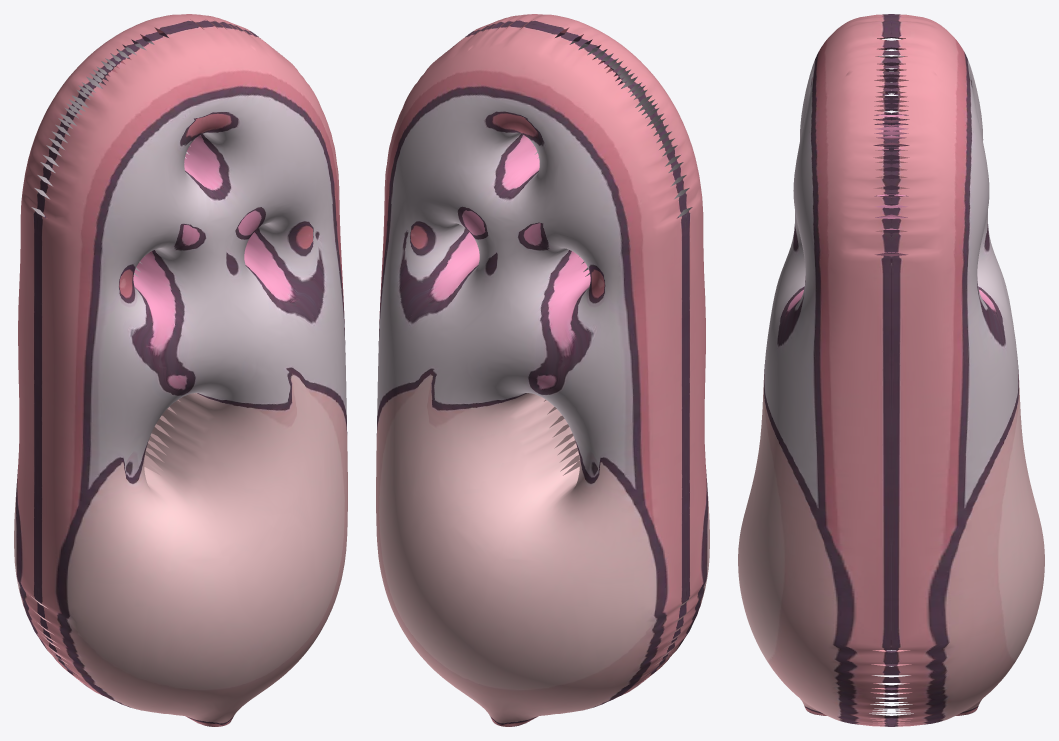
Rendered from chamber_pod.glb.
The picture shows the model from 3 angles, left to right: view 1: azimuth 30°, elevation 25°; view 2: azimuth 150°, elevation 25°; view 3: azimuth 270°, elevation 25°; orthographic projection.
Parts seen in each view (by area): view 1: chamber_pod; view 2: chamber_pod; view 3: chamber_pod.
Boxes of the visible parts, x1=… form: chamber_pod: x1=14, y1=14, x2=347, y2=726; chamber_pod: x1=376, y1=14, x2=709, y2=726; chamber_pod: x1=738, y1=14, x2=1044, y2=726.
Bounding box in the file's own units: 0.9756 × 2.2 × 0.9015.
1 material, 1 textured.
